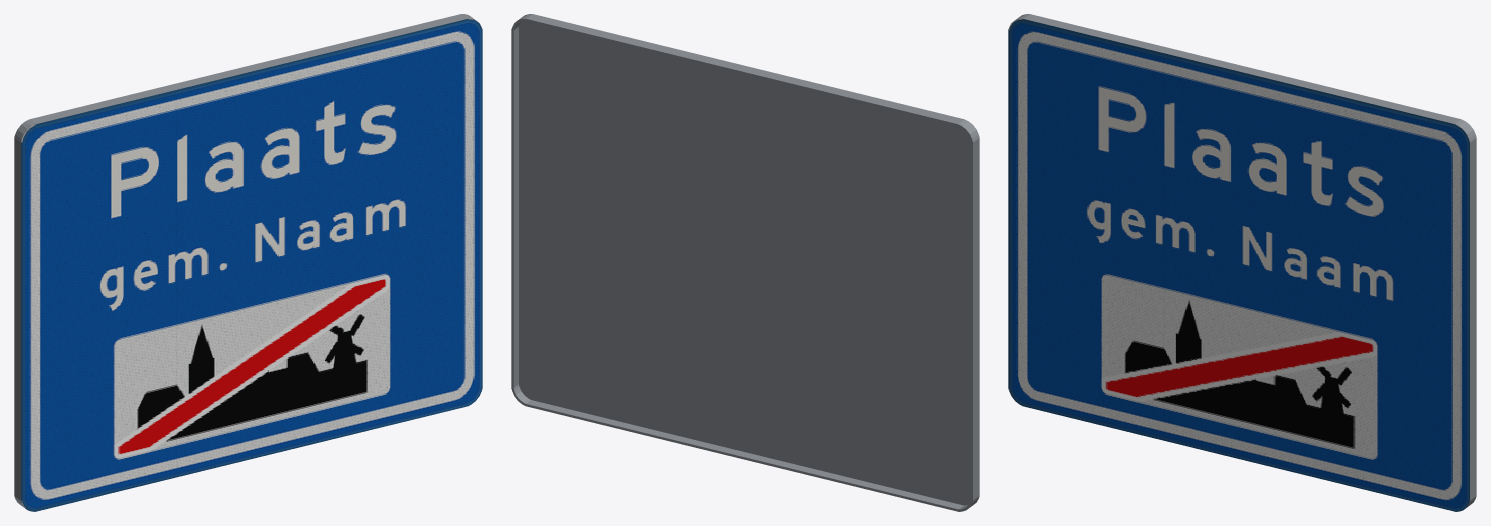
3 views of the same model, side by side, from view 1: azimuth 30°, elevation 25°; view 2: azimuth 150°, elevation 25°; view 3: azimuth 330°, elevation 25° (orthographic).
Visible parts, largest first — view 1: cat_bf36738567008993; view 2: cat_bf36738567008993; view 3: cat_bf36738567008993.
Part boxes in pixels (x1,y1,x2,y2): cat_bf36738567008993: (14,14,482,511); cat_bf36738567008993: (511,14,979,511); cat_bf36738567008993: (1008,14,1476,511).
Size of the model in its own units: 0.6 by 0.015 by 0.481.
2 materials, 1 textured.
